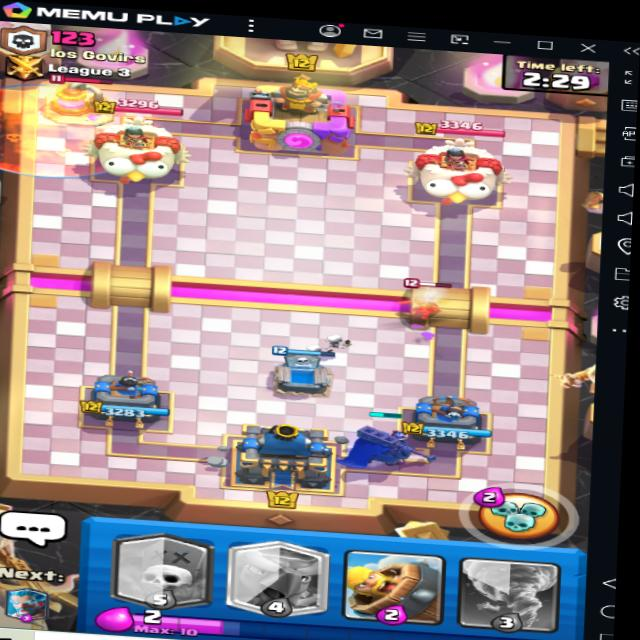bandit: (392, 273, 463, 330)
elixir-collector: (41, 70, 117, 127)
